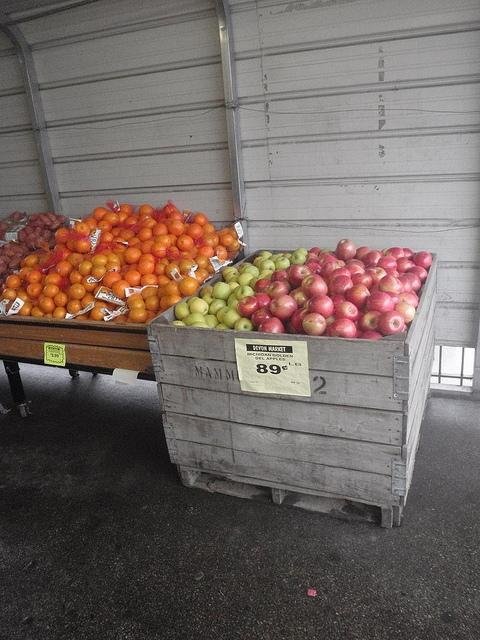apple: (270, 294, 298, 322), (378, 310, 404, 336), (308, 294, 334, 320), (366, 292, 395, 314), (346, 284, 370, 310), (302, 312, 327, 336), (288, 264, 312, 288), (329, 318, 357, 338), (303, 276, 328, 298), (378, 274, 404, 295), (393, 302, 416, 325), (238, 296, 260, 320), (251, 307, 275, 329), (329, 275, 354, 296), (334, 302, 360, 322), (291, 307, 310, 333), (360, 310, 382, 332), (267, 281, 290, 301), (258, 317, 286, 333), (336, 239, 356, 261), (406, 266, 428, 285), (223, 308, 243, 328), (365, 267, 387, 285), (402, 273, 422, 292), (212, 282, 231, 301), (352, 272, 372, 290), (321, 261, 341, 279), (329, 268, 351, 284), (190, 298, 209, 316), (414, 251, 432, 270), (174, 302, 192, 321), (208, 299, 228, 316), (301, 274, 322, 290), (364, 250, 384, 266), (376, 256, 398, 270), (253, 293, 272, 309), (396, 256, 412, 274), (186, 312, 206, 326), (317, 255, 338, 268), (254, 278, 273, 292), (397, 276, 412, 293), (384, 247, 405, 259), (216, 306, 230, 324), (234, 318, 254, 330), (346, 264, 366, 276), (306, 262, 323, 276), (275, 278, 292, 292), (250, 276, 265, 291), (239, 272, 254, 287), (274, 256, 290, 270), (204, 314, 220, 328), (385, 291, 402, 304), (291, 251, 306, 265), (225, 270, 240, 284), (359, 331, 384, 339), (199, 284, 213, 298), (403, 248, 414, 264), (384, 268, 401, 278), (239, 262, 253, 274), (228, 282, 240, 295), (351, 260, 366, 270), (284, 264, 298, 274), (308, 248, 322, 256), (170, 320, 188, 326), (256, 258, 266, 268), (296, 248, 308, 256), (268, 255, 280, 262), (254, 252, 261, 260)
orange: (179, 276, 198, 296), (136, 258, 154, 278), (112, 280, 130, 299), (103, 271, 122, 289), (164, 280, 182, 298), (176, 234, 194, 252), (55, 260, 73, 278), (81, 274, 98, 292), (124, 270, 142, 287), (124, 247, 142, 264), (186, 223, 204, 240), (167, 220, 184, 237), (74, 238, 92, 254), (129, 308, 148, 323), (66, 253, 85, 268), (27, 283, 44, 299), (69, 284, 86, 300), (42, 284, 60, 299), (44, 273, 63, 287), (26, 270, 42, 286), (39, 298, 55, 314), (6, 274, 22, 290), (74, 222, 90, 238), (186, 272, 204, 286), (128, 298, 146, 312), (66, 300, 84, 314), (118, 229, 137, 242), (55, 228, 70, 244), (145, 296, 160, 312), (78, 260, 93, 276), (93, 206, 108, 222), (140, 240, 156, 255), (141, 286, 158, 300), (140, 274, 158, 287), (138, 204, 156, 217), (213, 245, 228, 260), (103, 212, 119, 226), (92, 264, 106, 280), (166, 264, 180, 280), (152, 242, 166, 258), (91, 306, 107, 320), (198, 246, 214, 260), (178, 260, 194, 274), (70, 270, 84, 286), (152, 224, 168, 238), (138, 228, 154, 242), (91, 254, 108, 267), (81, 295, 98, 308), (193, 254, 208, 268), (19, 302, 34, 316), (167, 294, 182, 308), (54, 292, 68, 307), (24, 254, 40, 267), (155, 234, 171, 247), (19, 266, 33, 280), (98, 220, 112, 234), (153, 262, 167, 276), (2, 288, 17, 301), (85, 217, 98, 232), (115, 251, 127, 267), (220, 234, 234, 247), (193, 213, 207, 226), (164, 204, 178, 217), (53, 306, 68, 318), (126, 294, 144, 304), (38, 255, 53, 267), (94, 286, 105, 302), (111, 243, 127, 254), (30, 306, 46, 317), (67, 235, 77, 252), (168, 210, 182, 222), (196, 268, 210, 280), (140, 253, 156, 263), (227, 239, 240, 251), (120, 204, 132, 217), (100, 232, 114, 243), (144, 218, 158, 229), (160, 296, 169, 312), (168, 246, 180, 258), (32, 262, 44, 274), (158, 275, 171, 286), (168, 234, 178, 248), (16, 292, 30, 302), (204, 260, 214, 274), (128, 238, 142, 248), (82, 252, 96, 262), (58, 278, 71, 288), (125, 216, 139, 225), (118, 212, 128, 224), (113, 314, 128, 322), (110, 228, 122, 238), (37, 252, 47, 264), (158, 287, 168, 299), (120, 262, 132, 272), (54, 243, 67, 252), (98, 249, 114, 256), (94, 302, 108, 310), (228, 229, 238, 240), (128, 262, 139, 272), (214, 240, 226, 249), (201, 231, 213, 240), (189, 246, 198, 258), (112, 238, 126, 245), (132, 242, 144, 250), (40, 276, 48, 288), (64, 284, 72, 296), (178, 250, 190, 258), (31, 298, 40, 308), (22, 280, 30, 290), (160, 258, 170, 266), (220, 228, 230, 236), (72, 315, 88, 320), (183, 224, 190, 235), (134, 226, 143, 234), (119, 272, 127, 280), (157, 218, 167, 224), (43, 313, 54, 318), (98, 280, 106, 286), (117, 226, 127, 230), (70, 266, 76, 272), (182, 215, 185, 224), (205, 220, 211, 224)
potato: (25, 232, 40, 243), (9, 256, 22, 268), (49, 219, 61, 231), (40, 214, 52, 226), (34, 236, 46, 248), (0, 248, 14, 258), (45, 212, 57, 222), (11, 246, 25, 254), (0, 222, 8, 236), (2, 255, 12, 266), (18, 230, 27, 242), (12, 210, 22, 220), (24, 226, 35, 235), (34, 226, 43, 236), (41, 230, 51, 239), (29, 214, 40, 222), (57, 215, 66, 224), (0, 266, 8, 276), (0, 283, 8, 292), (3, 243, 13, 250), (28, 221, 36, 228), (24, 250, 33, 256), (15, 252, 24, 258), (12, 222, 18, 226)
